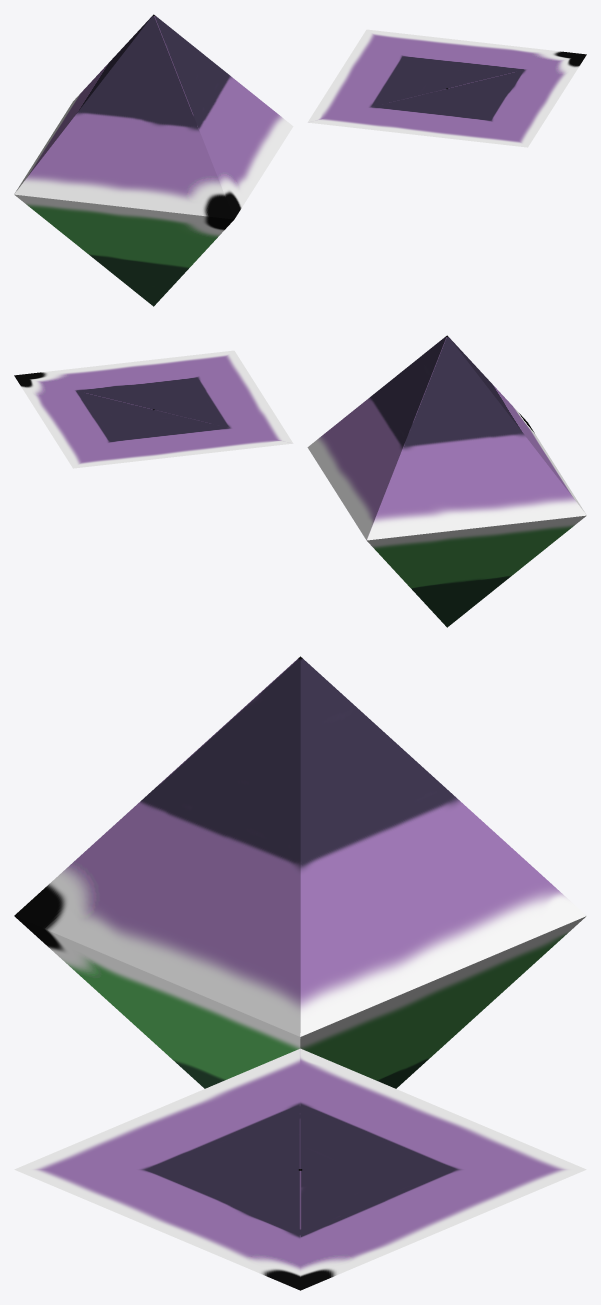
File: octo.fbx
3 renders of one model, top to bottom at view 1: azimuth 30°, elevation 25°; view 2: azimuth 150°, elevation 25°; view 3: azimuth 270°, elevation 25°, orthographic. The views are drawn at different scales.
Visible parts, largest first — view 1: Cube, Cube.001; view 2: Cube, Cube.001; view 3: Cube, Cube.001.
Boxes of the visible parts, x1,y1,x2,y2 form: Cube: (14, 14, 293, 306); Cube.001: (307, 29, 586, 147); Cube: (307, 335, 586, 627); Cube.001: (14, 350, 293, 468); Cube: (14, 656, 586, 1088); Cube.001: (14, 1048, 586, 1290).
Bounding box in the file's own units: 410 × 200 × 200.
1 material, 1 textured.
